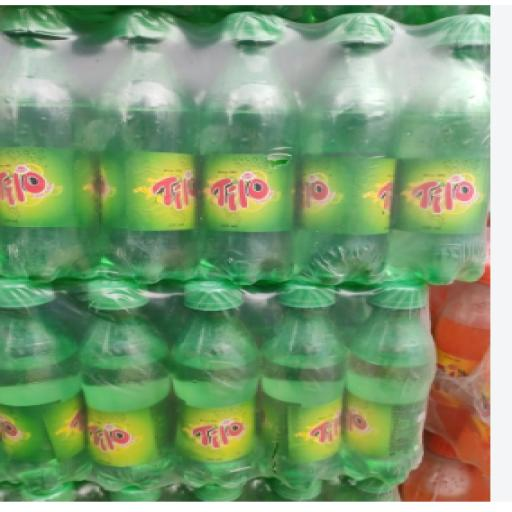Sprite: (296, 15, 398, 282), (199, 13, 299, 282), (390, 16, 490, 283), (98, 10, 196, 281), (0, 21, 99, 281), (343, 282, 434, 484), (80, 283, 171, 484), (172, 282, 259, 484), (0, 280, 84, 487), (262, 283, 346, 487), (435, 284, 490, 377)
